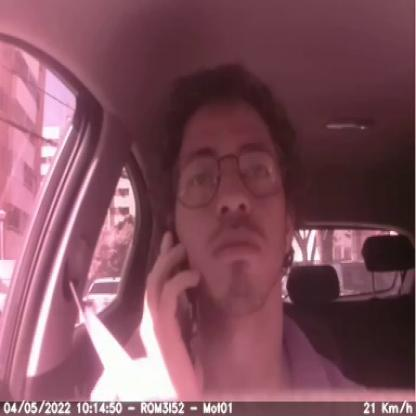phone: (150, 222, 209, 367)
